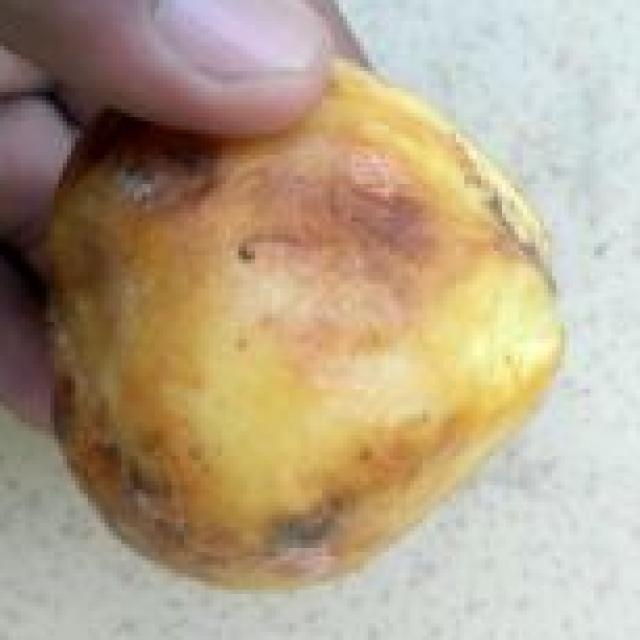Bad_Guava 0 day: (50, 63, 563, 585)
